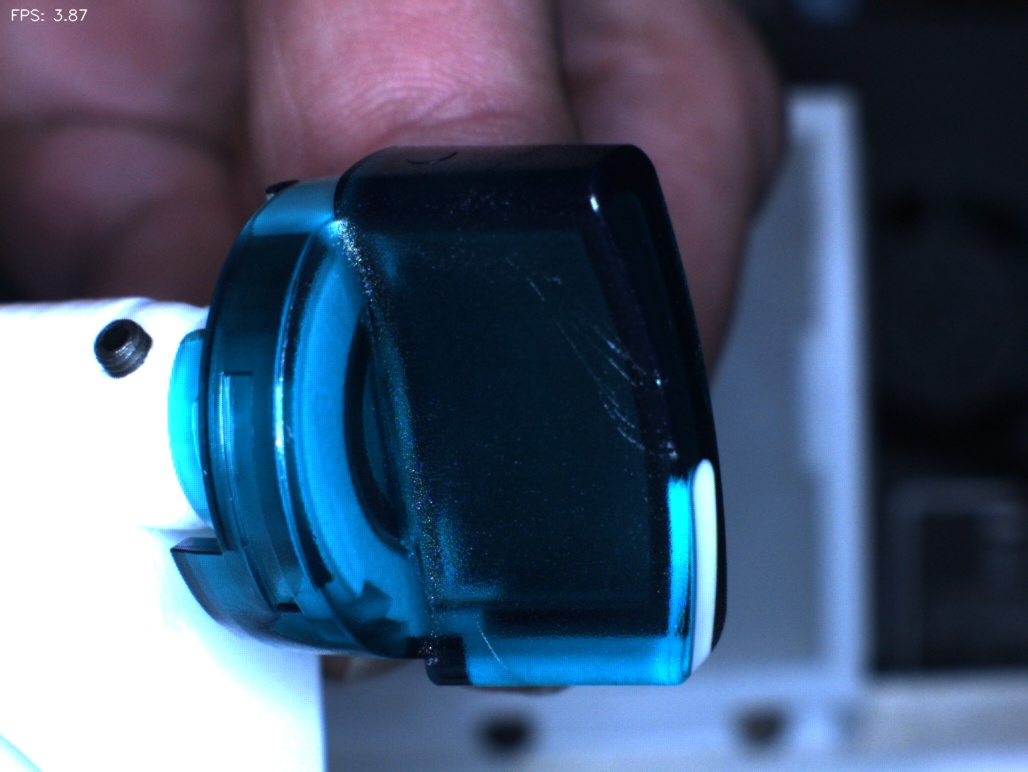Givrage: (522, 258, 661, 470)
